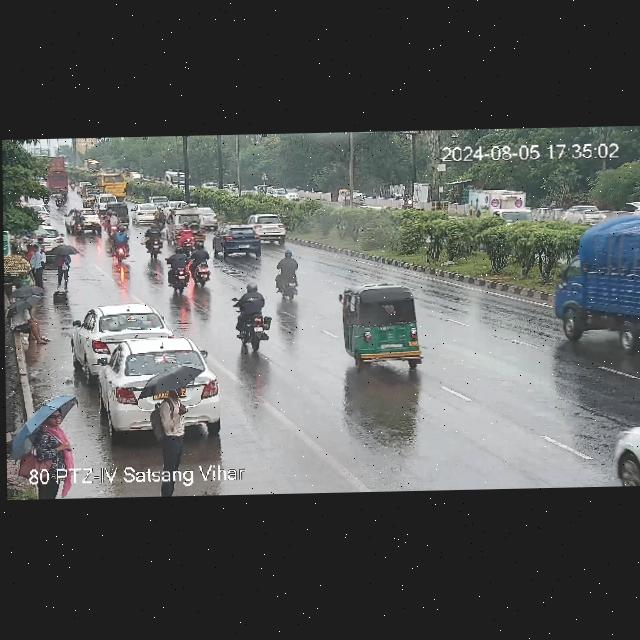bus: (101, 173, 127, 198), (85, 158, 100, 174)
car: (331, 283, 433, 377), (100, 338, 217, 409), (77, 301, 169, 363), (469, 188, 533, 226), (209, 227, 260, 258), (170, 209, 205, 247), (244, 215, 291, 242), (101, 204, 133, 227), (133, 202, 162, 223), (201, 205, 218, 224)
motorcycle: (226, 283, 274, 357), (272, 250, 308, 299), (191, 240, 211, 291), (170, 247, 190, 291), (142, 222, 165, 257), (108, 231, 131, 260), (45, 187, 69, 211), (103, 214, 120, 237), (72, 210, 85, 238), (179, 223, 192, 251), (154, 205, 164, 228)
person: (35, 399, 76, 469), (154, 377, 184, 466), (4, 299, 51, 346), (56, 245, 70, 295), (26, 243, 40, 284), (39, 235, 49, 281)
truck: (552, 212, 640, 350), (80, 185, 96, 203)
